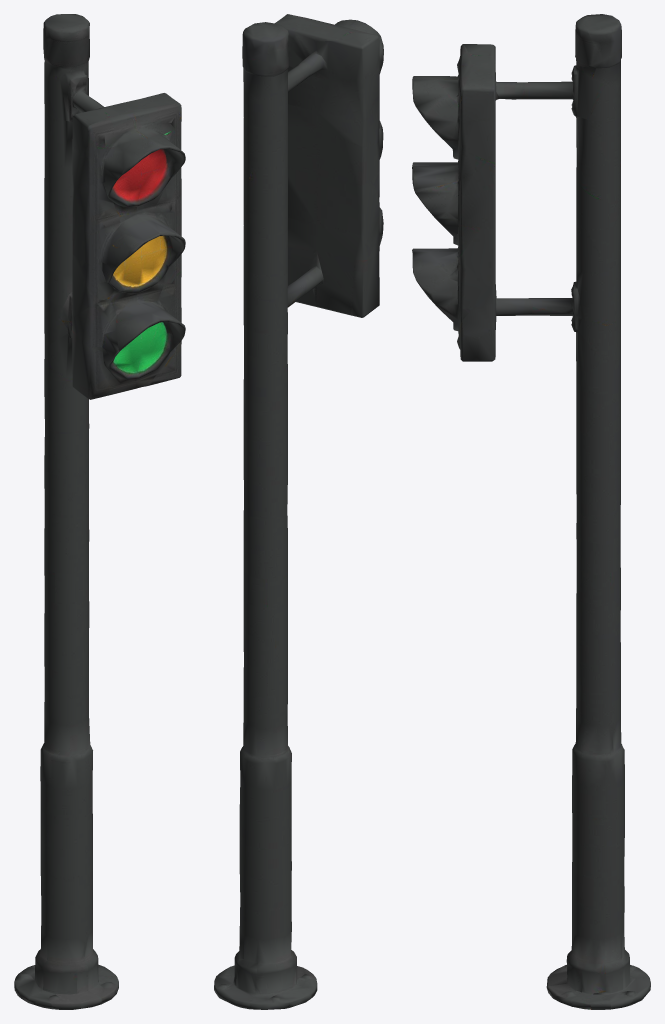
The model's file is tsignal_lod1.glb.
3 renders of one model, left to right at view 1: azimuth 30°, elevation 25°; view 2: azimuth 150°, elevation 25°; view 3: azimuth 270°, elevation 25°, orthographic.
Visible parts, largest first — view 1: mesh_node; view 2: mesh_node; view 3: mesh_node.
Part boxes in pixels (bbox=[...]): mesh_node: bbox=[14, 14, 185, 1009]; mesh_node: bbox=[214, 14, 383, 1009]; mesh_node: bbox=[412, 14, 650, 1009].
Bounding box in the file's own units: 0.194 × 1.9 × 0.4267.
1 material, 1 textured.
